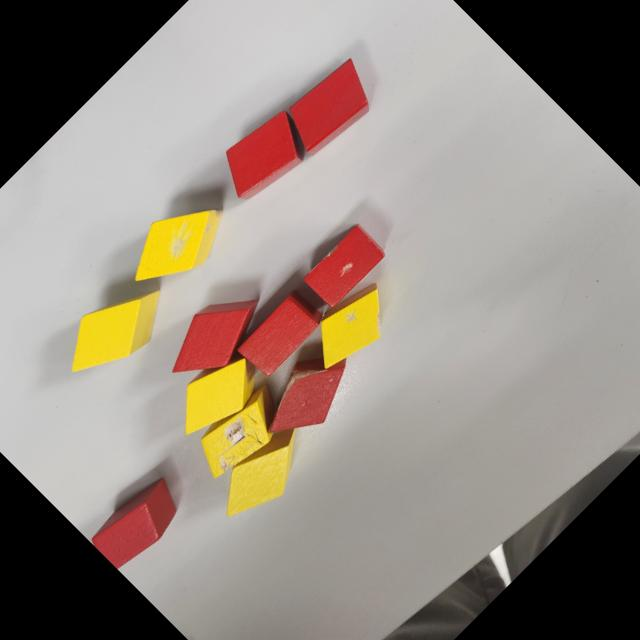broken: (114, 181, 239, 306), (246, 334, 369, 457), (296, 272, 404, 380), (186, 378, 294, 486), (298, 222, 388, 312)
red: (150, 274, 276, 400), (274, 52, 386, 164), (208, 100, 320, 211), (86, 469, 192, 574), (232, 286, 328, 382)
yellow: (48, 264, 180, 396), (202, 414, 322, 534), (161, 338, 273, 451)
